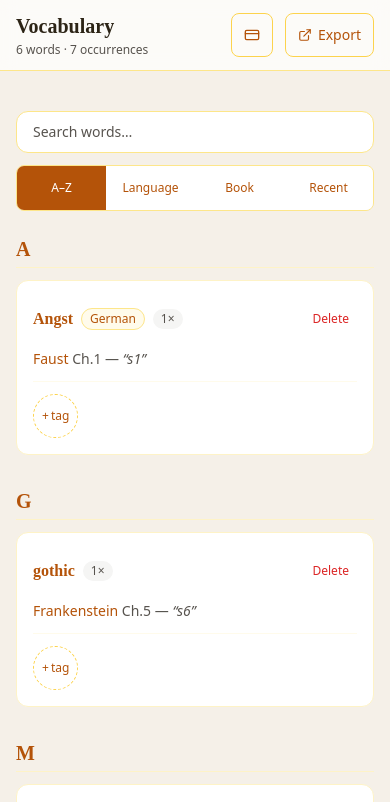
vocabulary sort — Recent › most recently saved word (gothic, 2026-04-20) appears first
This screenshot has width=390, height=802.
Expected: the button "Angst" is shown, [33,297,73,341]
Click the button with test id "sort-recent". click: (328, 188)
box: [284,166,373,210]
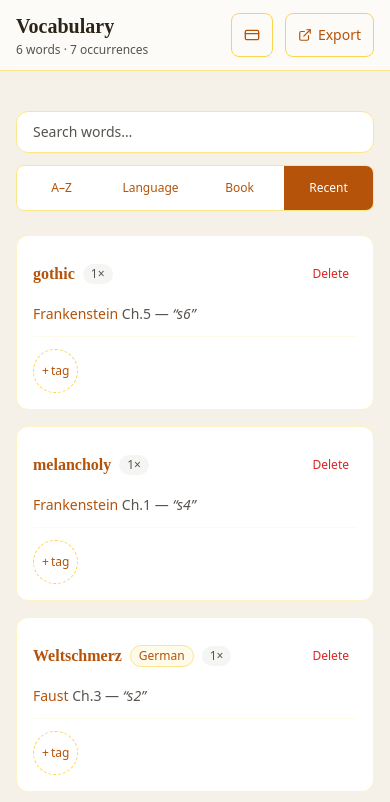
Now the button "gothic" is shown, box [33,252,75,296]
